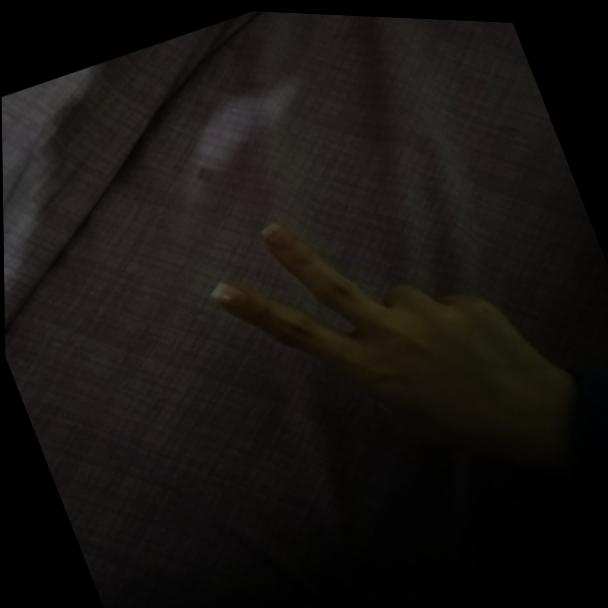two: (176, 135, 575, 548)
